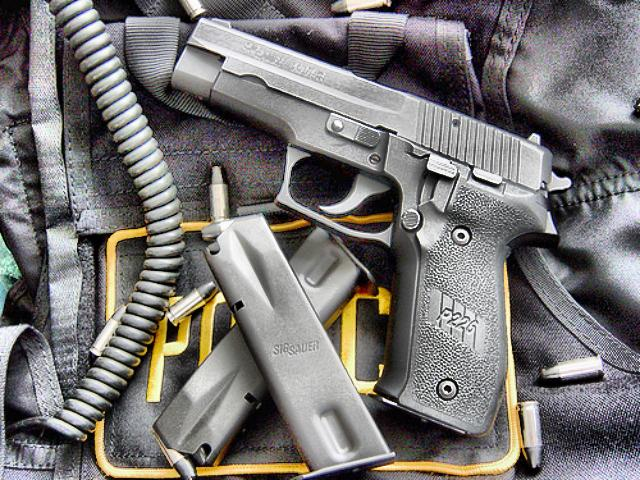pistol: (166, 13, 564, 441)
